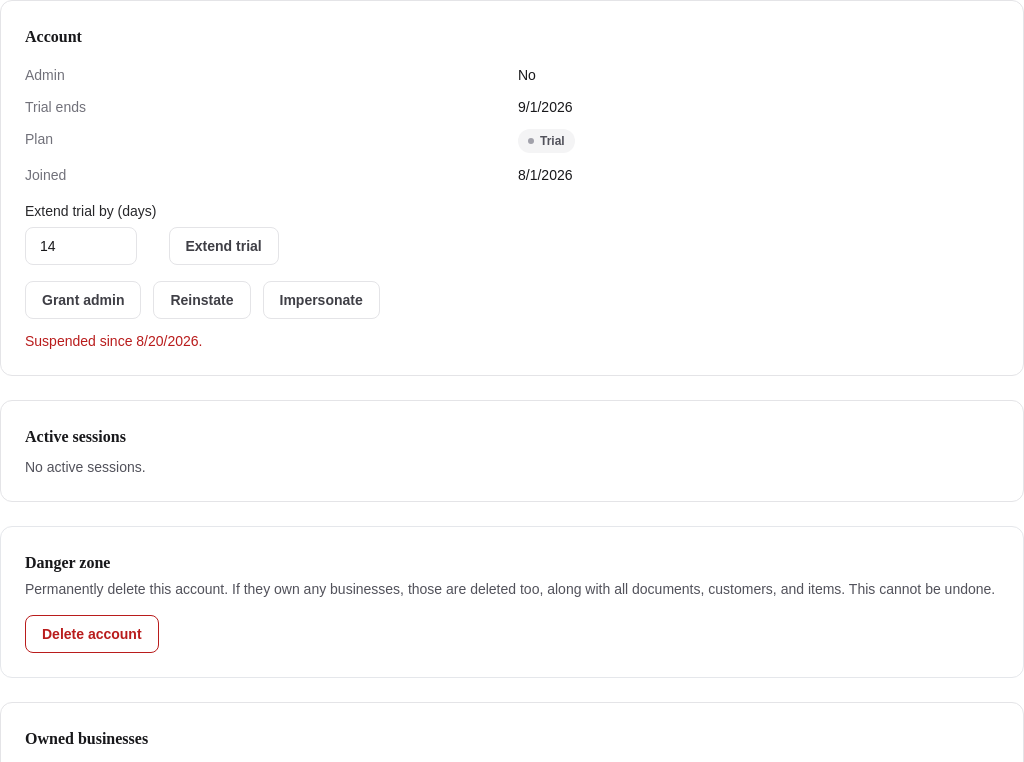
it: AdminUserDetail › reinstates a suspended account
The width and height of the screenshot is (1024, 762).
Click the button "Reinstate".
click(202, 300)  # box [154,281,250,319]
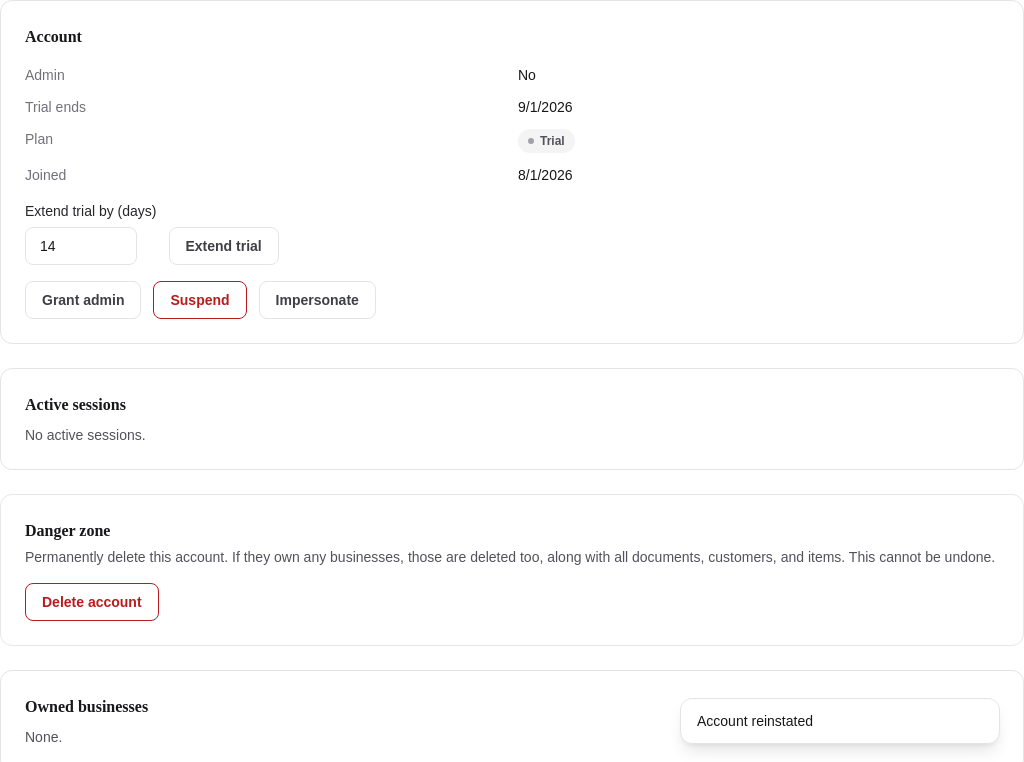
Now the button "Suspend" is shown, box [154,281,247,319]
Now the text "Suspended since" is gone
Now the text "Account reinstated" is shown, box [697,713,813,729]
